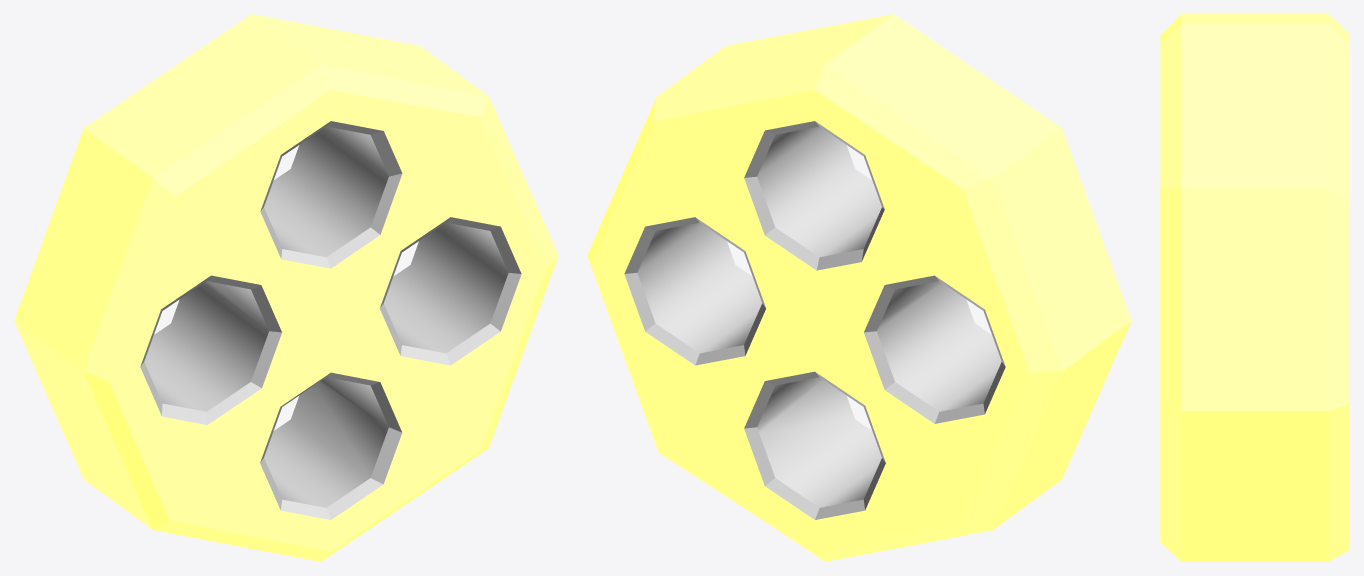
File: Obstacle4.fbx
The picture shows the model from 3 angles, left to right: view 1: azimuth 30°, elevation 25°; view 2: azimuth 150°, elevation 25°; view 3: azimuth 270°, elevation 25°; orthographic projection. The views are drawn at different scales.
Visible parts, largest first — view 1: Obstacle4; view 2: Obstacle4; view 3: Obstacle4.
Boxes of the visible parts, x1,y1,x2,y2 form: Obstacle4: (14, 14, 558, 561); Obstacle4: (587, 14, 1131, 561); Obstacle4: (1160, 14, 1349, 561).
Bounding box in the file's own units: 34.94 × 34.94 × 11.33.
